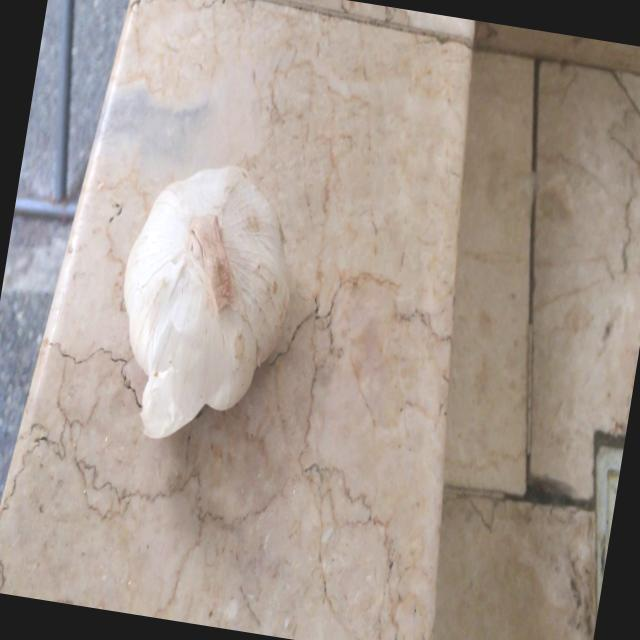bawang: (96, 148, 311, 459)
